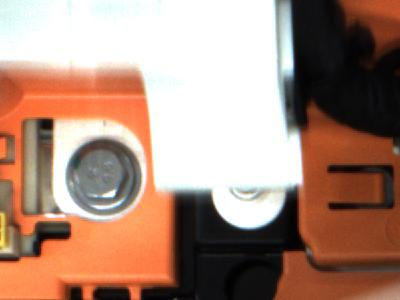nut_b: (63, 141, 144, 215)
